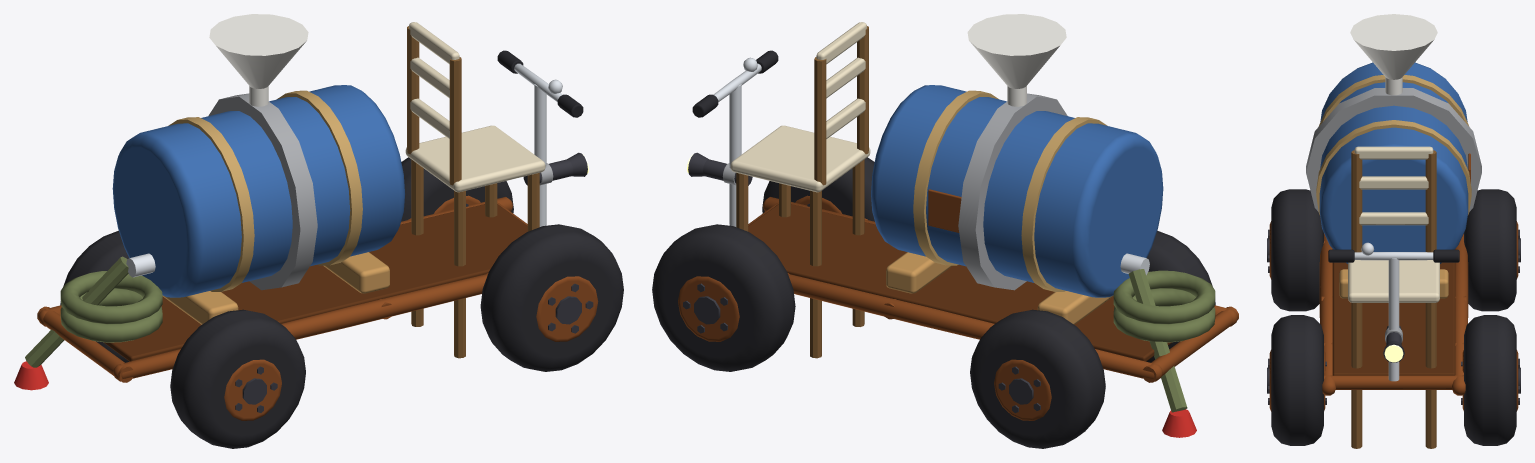
The model's file is vehicle_charging_truck_t1.glb.
3 renders of one model, left to right at view 1: azimuth 30°, elevation 25°; view 2: azimuth 150°, elevation 25°; view 3: azimuth 270°, elevation 25°, orthographic. The views are drawn at different scales.
Parts seen in each view (by area): view 1: Barrel, Frame.Floor, WheelFR.Tyre, WheelRR.Tyre, Barrel.Tape, Chair.Seat, Frame.Rail, Funnel.Cone, Hose.Coil.001, Barrel.Strap, Barrel.Strap.001, Hose.Coil (+19 smaller); view 2: Barrel, Frame.Floor, WheelFL.Tyre, WheelRL.Tyre, Barrel.Tape, Chair.Seat, Frame.Rail.001, Funnel.Cone, Hose.Coil.001, Barrel.Strap.001, Barrel.Strap, Hose.Coil (+20 smaller); view 3: Barrel, Frame.Floor, WheelFL.Tyre, WheelFR.Tyre, WheelRL.Tyre, WheelRR.Tyre, Barrel.Tape, Funnel.Cone, Chair.Seat, Frame.Cross.004, Frame.Rail, Frame.Rail.001 (+16 smaller).
Boxes of the visible parts, x1,y1,x2,y2 form: Barrel: (112,85,404,297); Frame.Floor: (103,204,527,361); WheelFR.Tyre: (480,224,623,371); WheelRR.Tyre: (170,309,305,448); Barrel.Tape: (208,93,317,290); Chair.Seat: (405,125,545,192); Frame.Rail: (113,274,487,381); Funnel.Cone: (209,14,308,88); Hose.Coil.001: (60,271,162,324); Barrel.Strap: (168,117,254,291); Barrel.Strap.001: (276,90,362,265); Hose.Coil: (60,288,162,342); Barrel: (871,85,1163,297); Frame.Floor: (748,204,1172,361); WheelFL.Tyre: (652,224,795,371); WheelRL.Tyre: (970,309,1105,448); Barrel.Tape: (958,93,1067,290); Chair.Seat: (730,125,870,192); Frame.Rail.001: (788,274,1162,381); Funnel.Cone: (967,14,1066,88); Hose.Coil.001: (1113,270,1215,324); Barrel.Strap.001: (913,90,998,265); Barrel.Strap: (1021,117,1107,291); Hose.Coil: (1113,288,1215,342); Barrel: (1319,62,1468,263); Frame.Floor: (1332,249,1455,375); WheelFL.Tyre: (1464,315,1516,445); WheelFR.Tyre: (1271,315,1323,445); WheelRL.Tyre: (1464,189,1516,311); WheelRR.Tyre: (1271,189,1323,311); Barrel.Tape: (1306,88,1481,211); Funnel.Cone: (1350,14,1437,79); Chair.Seat: (1348,260,1439,302); Frame.Cross.004: (1324,375,1463,389); Frame.Rail: (1319,234,1335,395); Frame.Rail.001: (1452,234,1468,395).
Size of the model in its own units: 2.47 by 1.54 by 1.16.
